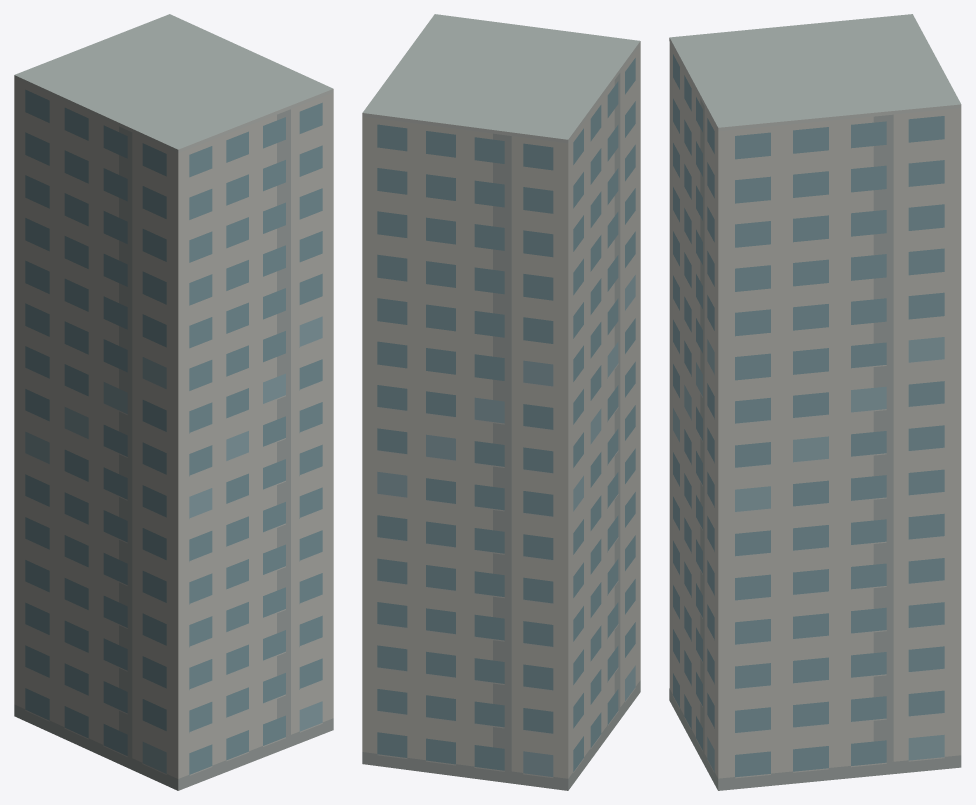
The model's file is residential-36271b60-0c18-46bc-abf3-97e1bdbc3874.glb.
3 renders of one model, left to right at view 1: azimuth 30°, elevation 25°; view 2: azimuth 150°, elevation 25°; view 3: azimuth 270°, elevation 25°, orthographic. The views are drawn at different scales.
Visible parts, largest first — view 1: residential-36271b60-0c18-46bc-abf3-97e1bdbc3874.tmp; view 2: residential-36271b60-0c18-46bc-abf3-97e1bdbc3874.tmp; view 3: residential-36271b60-0c18-46bc-abf3-97e1bdbc3874.tmp.
Part boxes in pixels (<box>): residential-36271b60-0c18-46bc-abf3-97e1bdbc3874.tmp: <box>14,14,333,790</box>; residential-36271b60-0c18-46bc-abf3-97e1bdbc3874.tmp: <box>362,14,640,790</box>; residential-36271b60-0c18-46bc-abf3-97e1bdbc3874.tmp: <box>669,14,961,790</box>.
Size of the model in its own units: 15.83 by 43 by 17.17.
